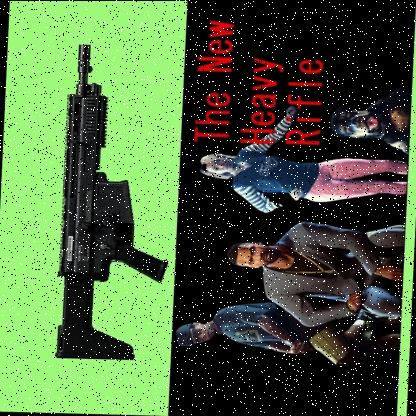rifle: (46, 38, 176, 366)
